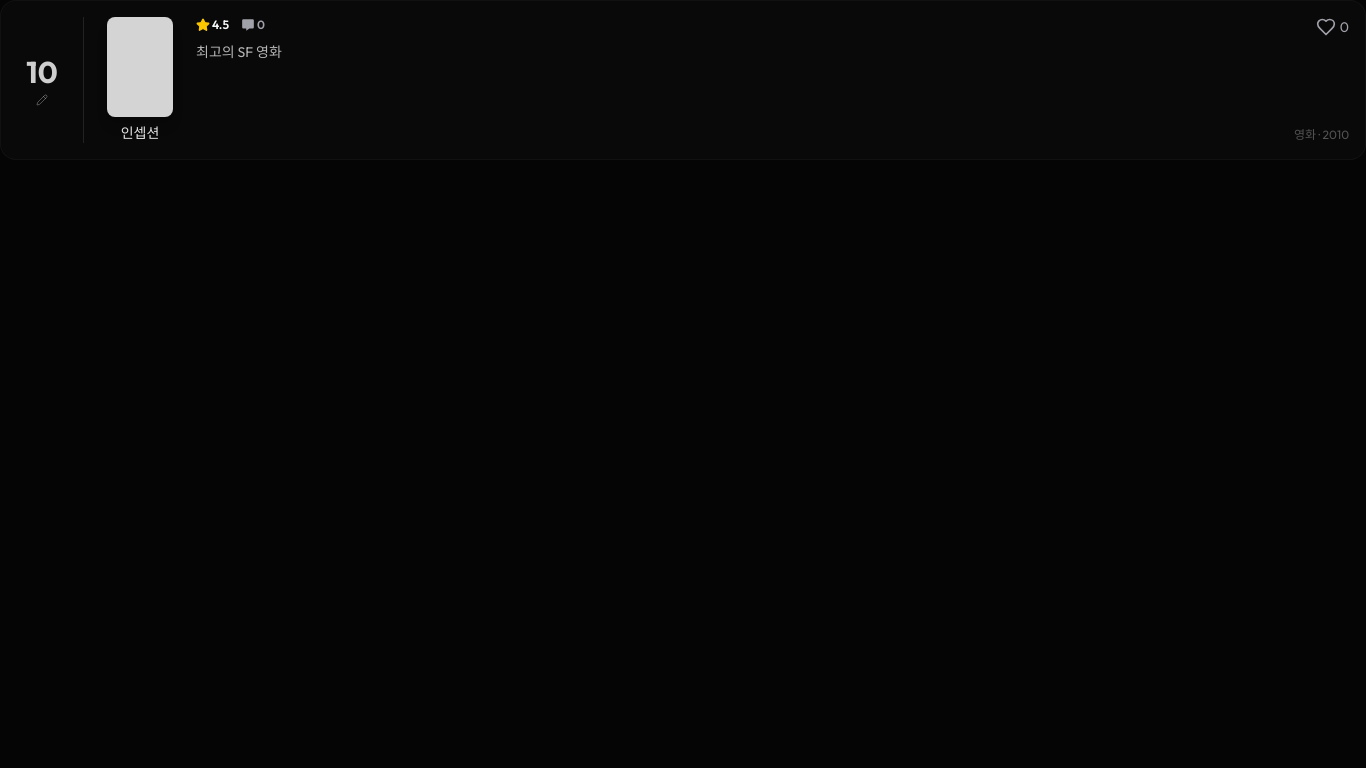
it: WatchlistCard › 리뷰가 있는 감상 기록 수정 › 날짜 영역 클릭 시 리뷰 수정 모달을 열고 watchedAt을 기본값으로 사용한다
The image size is (1366, 768).
Click the button titled "감상 기록 수정" at (42, 80), box [17,17,67,143]
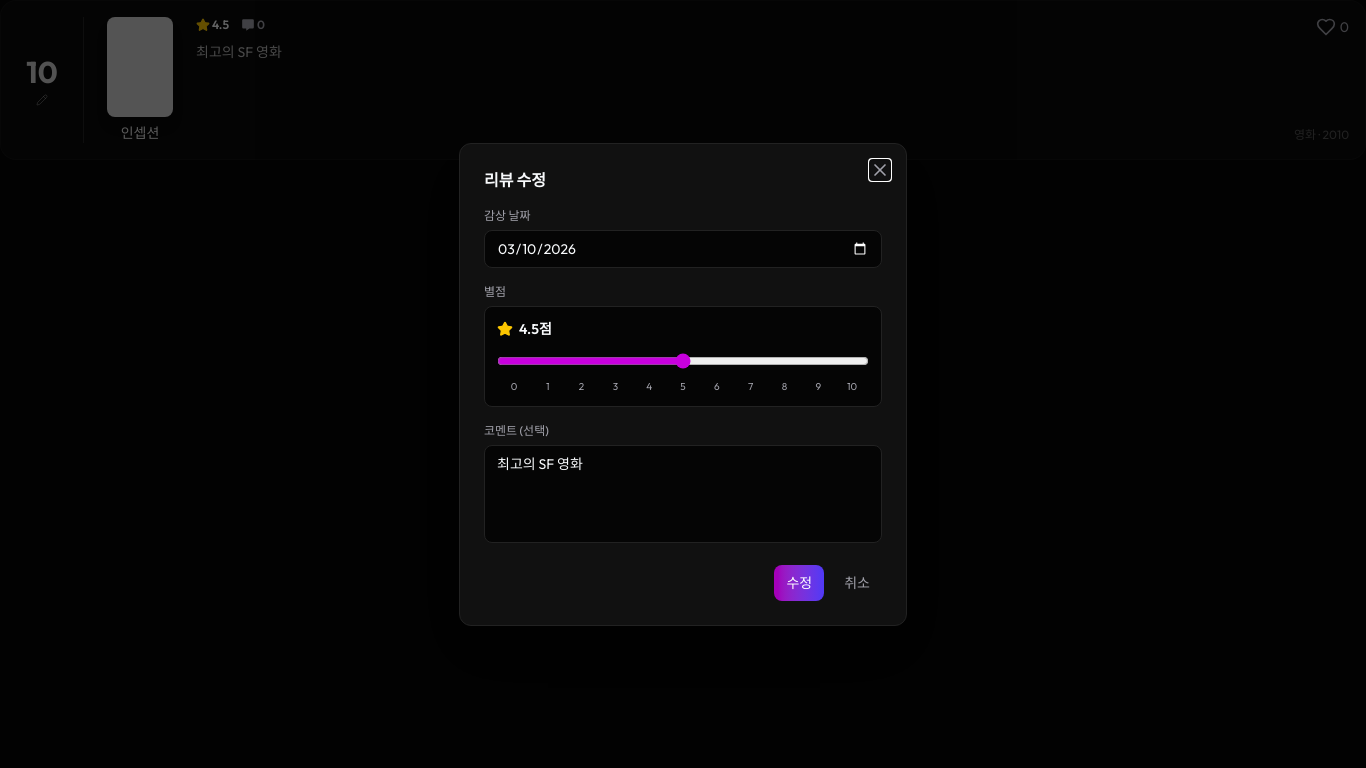
Result: the heading "리뷰 수정" is shown at [484,170,546,190]
Result: the date field showing "2026-03-10" is shown at [484,230,882,268]
